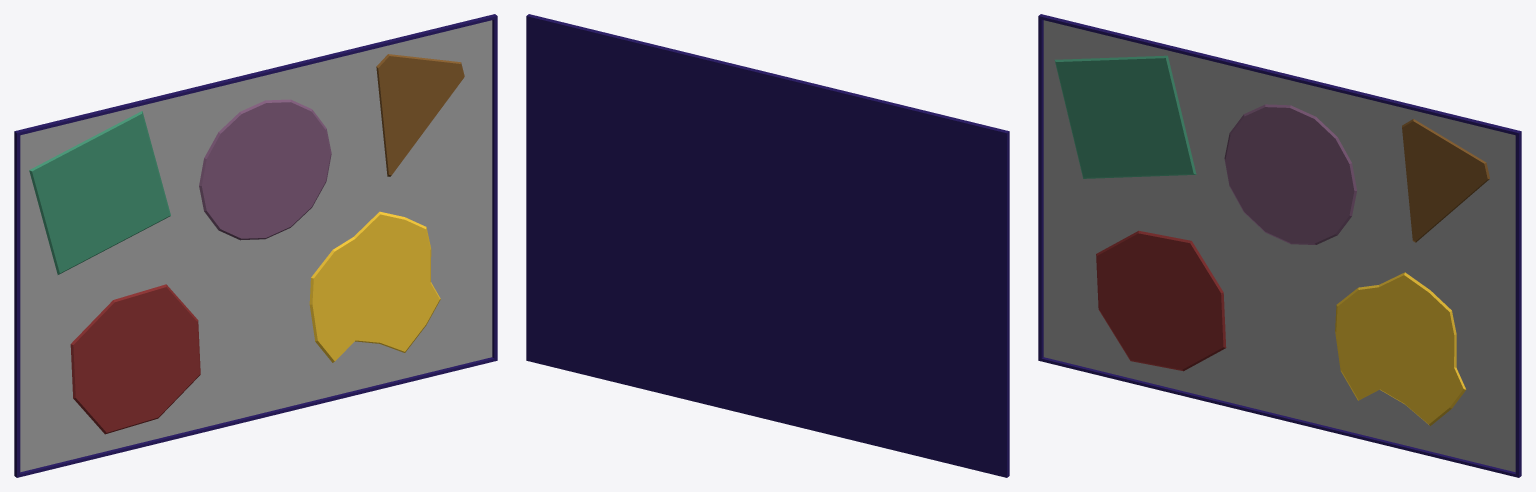
The model's file is Picture Frame_24.fbx.
The picture shows the model from 3 angles, left to right: view 1: azimuth 30°, elevation 25°; view 2: azimuth 150°, elevation 25°; view 3: azimuth 330°, elevation 25°; orthographic projection.
Parts seen in each view (by area): view 1: Picture Frame_24; view 2: Picture Frame_24; view 3: Picture Frame_24.
Boxes of the visible parts, x1,y1,x2,y2 form: Picture Frame_24: (14,14,497,477); Picture Frame_24: (526,14,1009,477); Picture Frame_24: (1038,14,1521,477).
Bounding box in the file's own units: 1.61 × 1.1 × 0.016.
